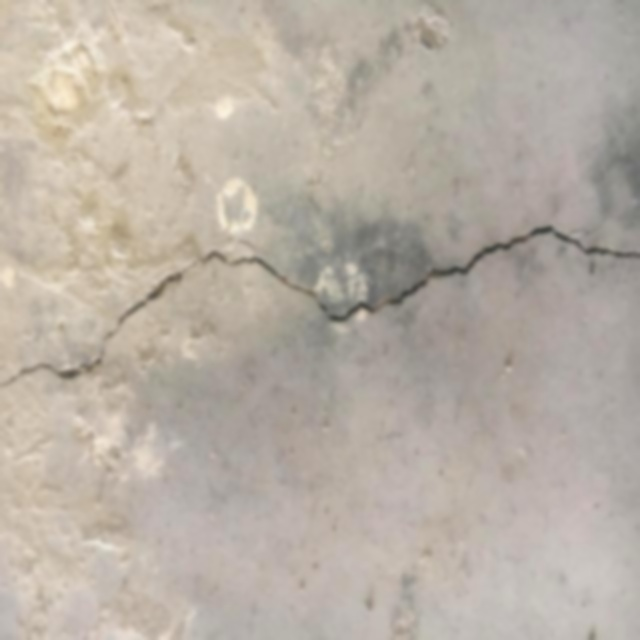SurfaceCrack: (1, 186, 640, 443)
